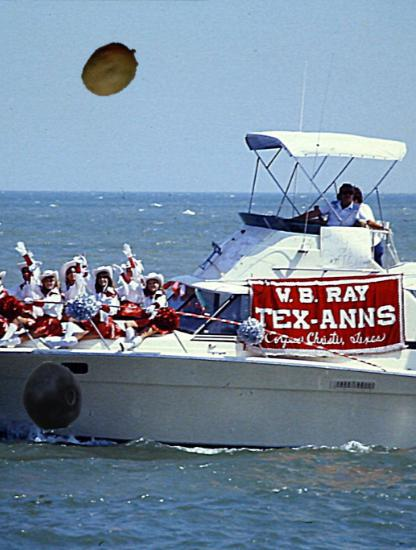Blueberry: (18, 361, 86, 429)
Papaya: (79, 39, 141, 101)
